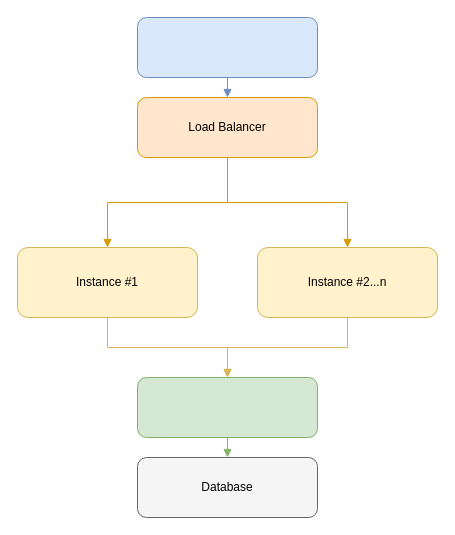
This 455x535 diagram has some shape labels left out. The box of each missing label's shape, as (x1, y1, x2, y2) in pixels:
Clients (HTTP/WS): (136, 16, 318, 78)
Message Broker: (136, 376, 318, 438)
